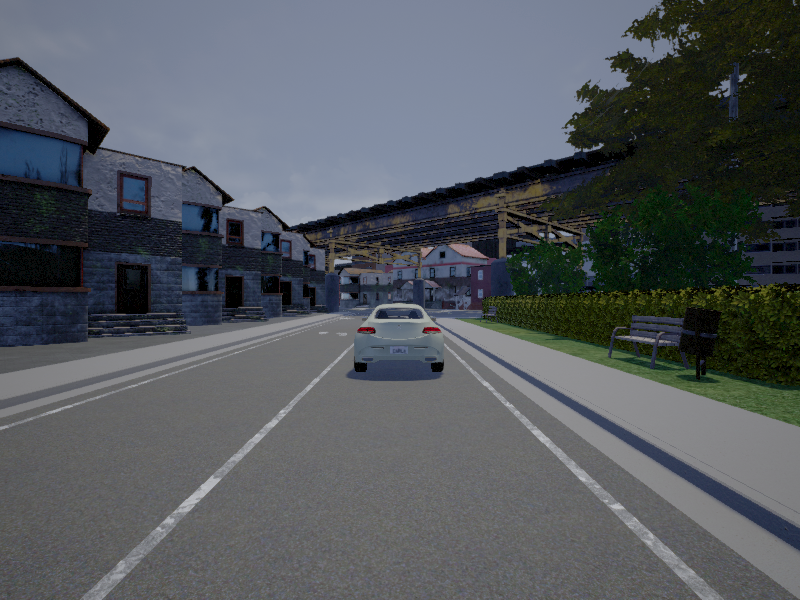Benign: (351, 304, 443, 374)
